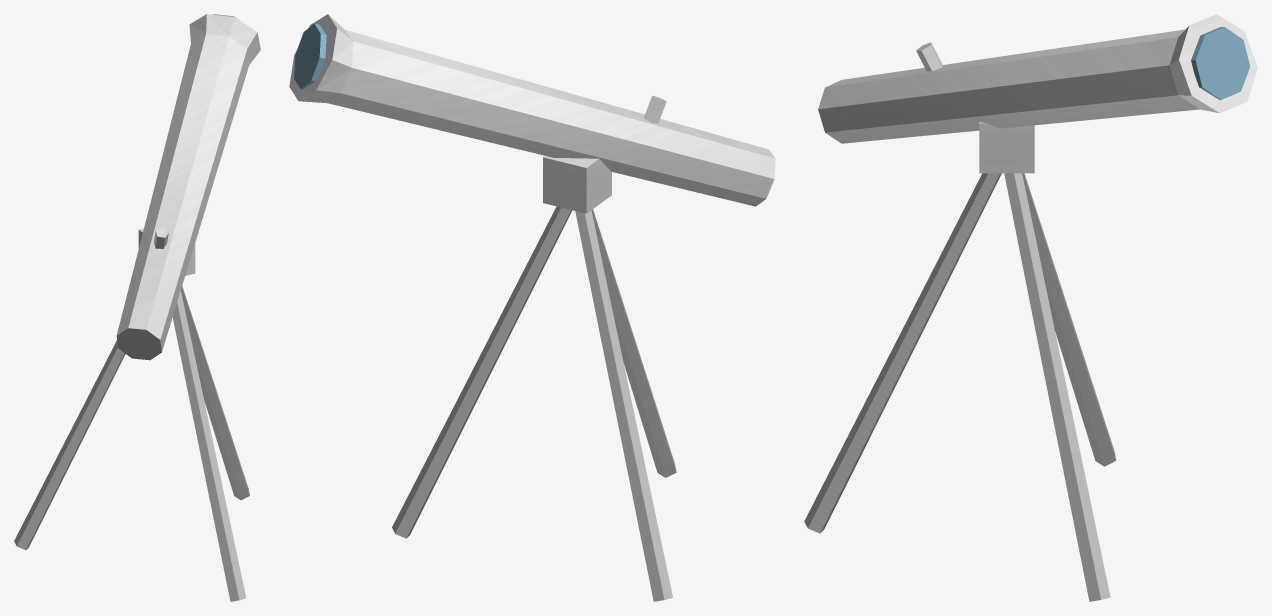
File: telescope.obj
3 views of the same model, side by side, from view 1: azimuth 30°, elevation 25°; view 2: azimuth 150°, elevation 25°; view 3: azimuth 270°, elevation 25° (orthographic). The views are drawn at different scales.
Visible parts, largest first — view 1: telescope; view 2: telescope; view 3: telescope.
Boxes of the visible parts, x1,y1,x2,y2 form: telescope: (14, 14, 260, 601); telescope: (289, 14, 775, 601); telescope: (804, 14, 1257, 601).
Size of the model in its own units: 0.9276 by 1.43 by 0.9873.
